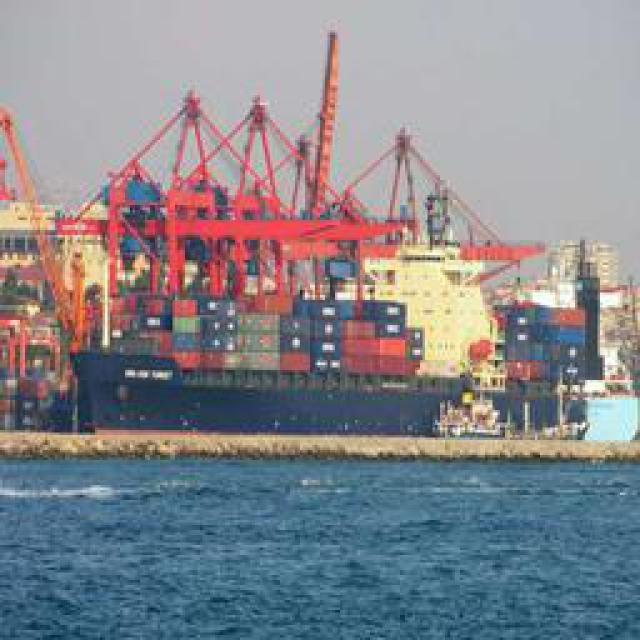Ship: (40, 46, 553, 436)
